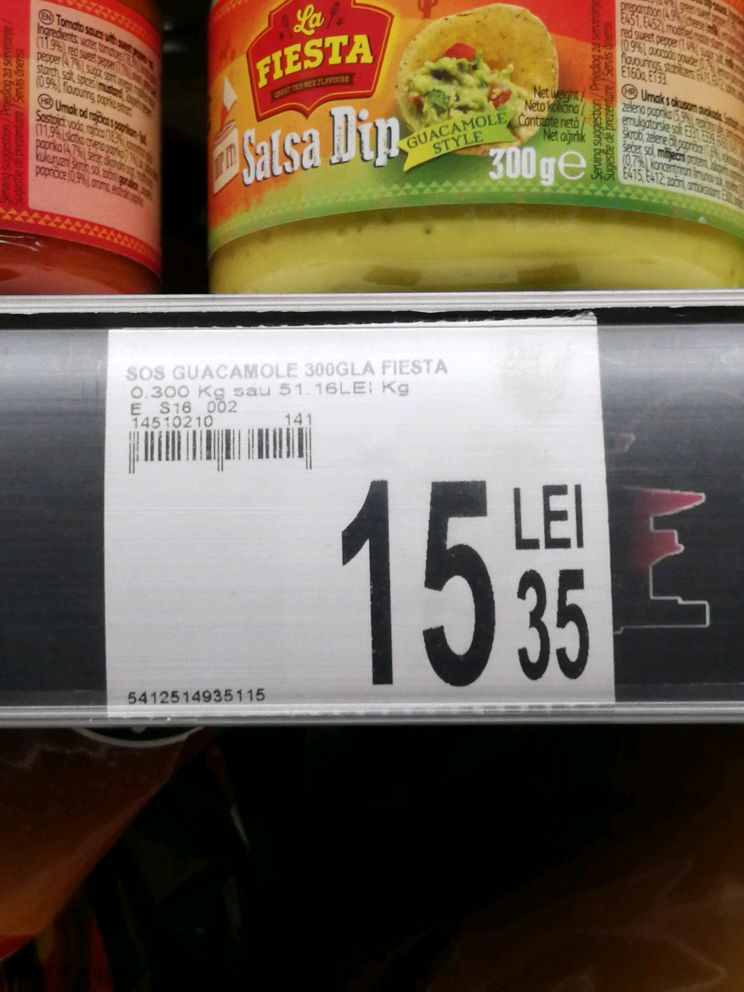price_bani: (509, 559, 598, 693)
price_lei: (327, 466, 507, 703)
price_tag: (73, 298, 646, 739)
product_id: (117, 679, 277, 716)
product_name: (119, 351, 465, 384)
